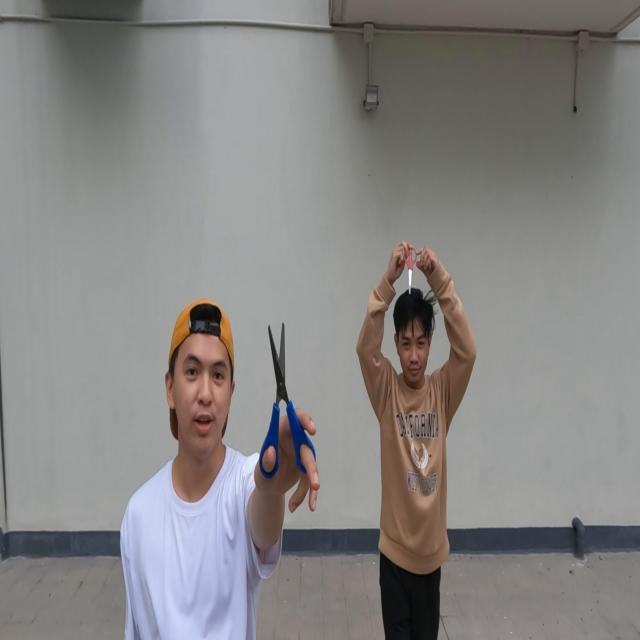scissor: (258, 322, 317, 482), (402, 245, 417, 296)
